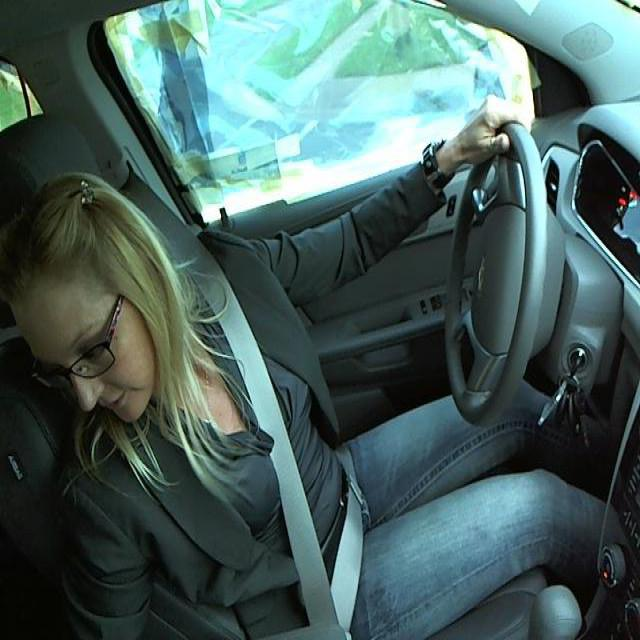seatbelt: (196, 298, 364, 638)
